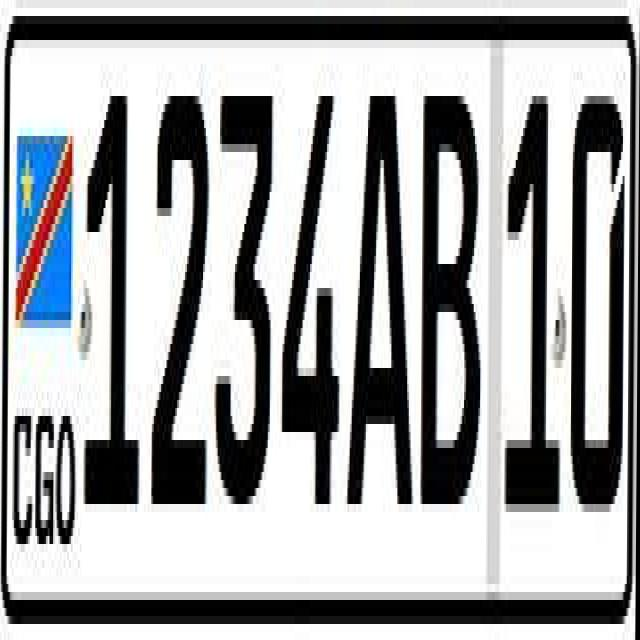Plaque: (0, 8, 640, 632)
